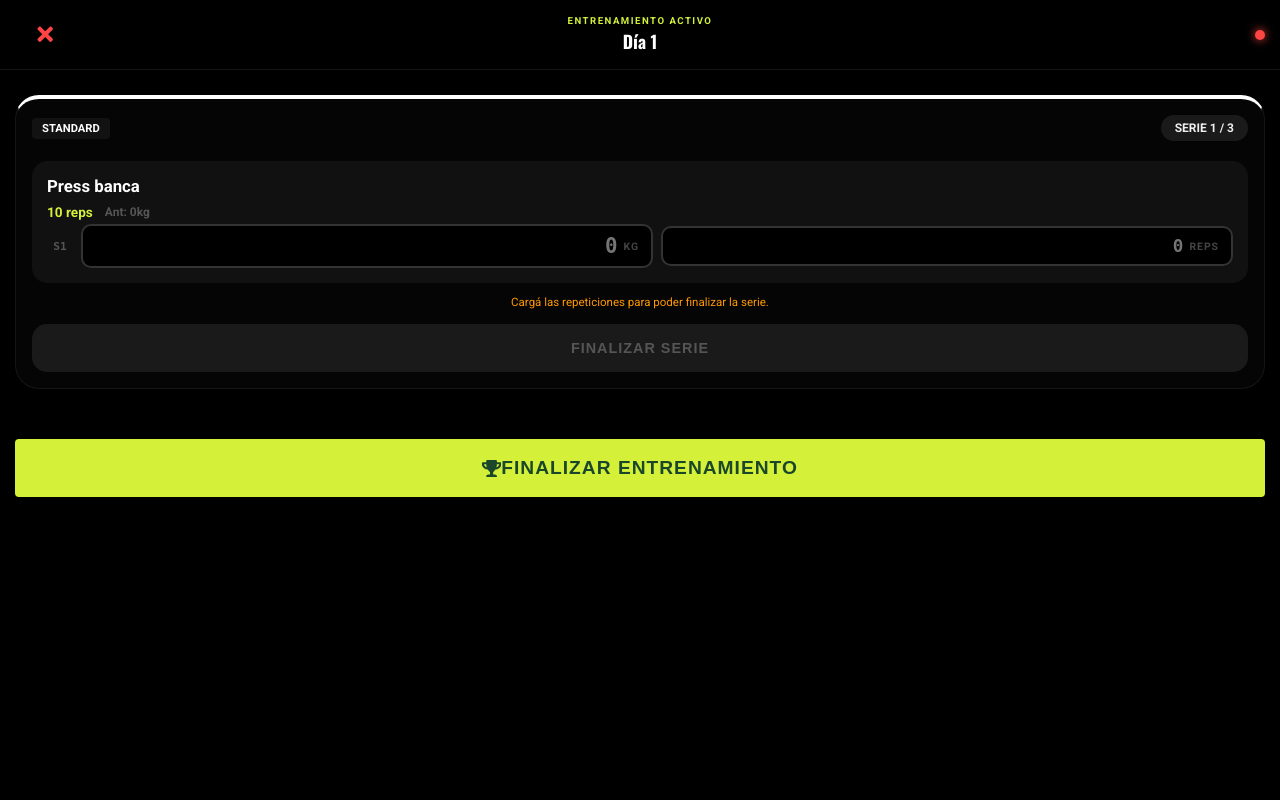
Scenario: WorkoutView — completar series/vueltas › el botón "SALTAR" corta el timer de descanso al toque
Type "10" into the number field named "Repeticiones serie" at (929, 246), box 675,236 -> 1183,256
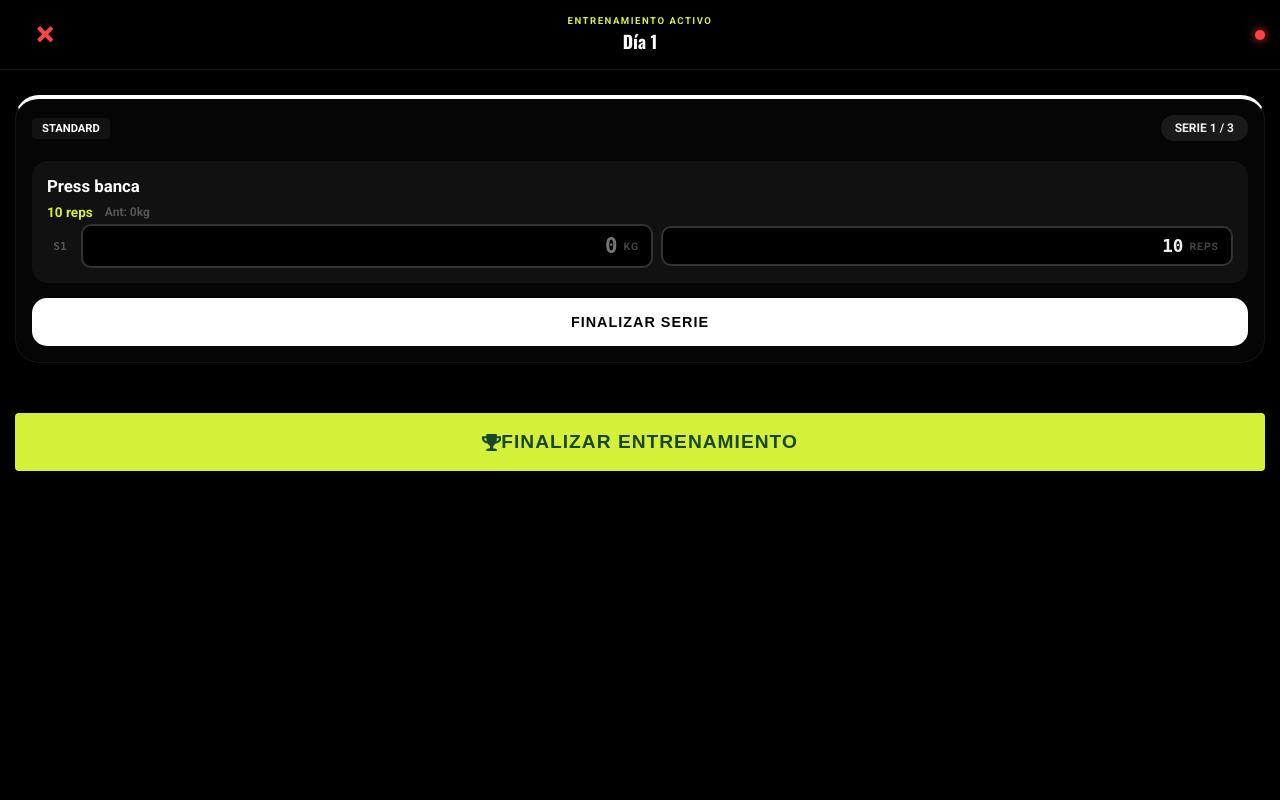
Click the button "FINALIZAR SERIE" at (640, 322), box 32,298 -> 1248,346
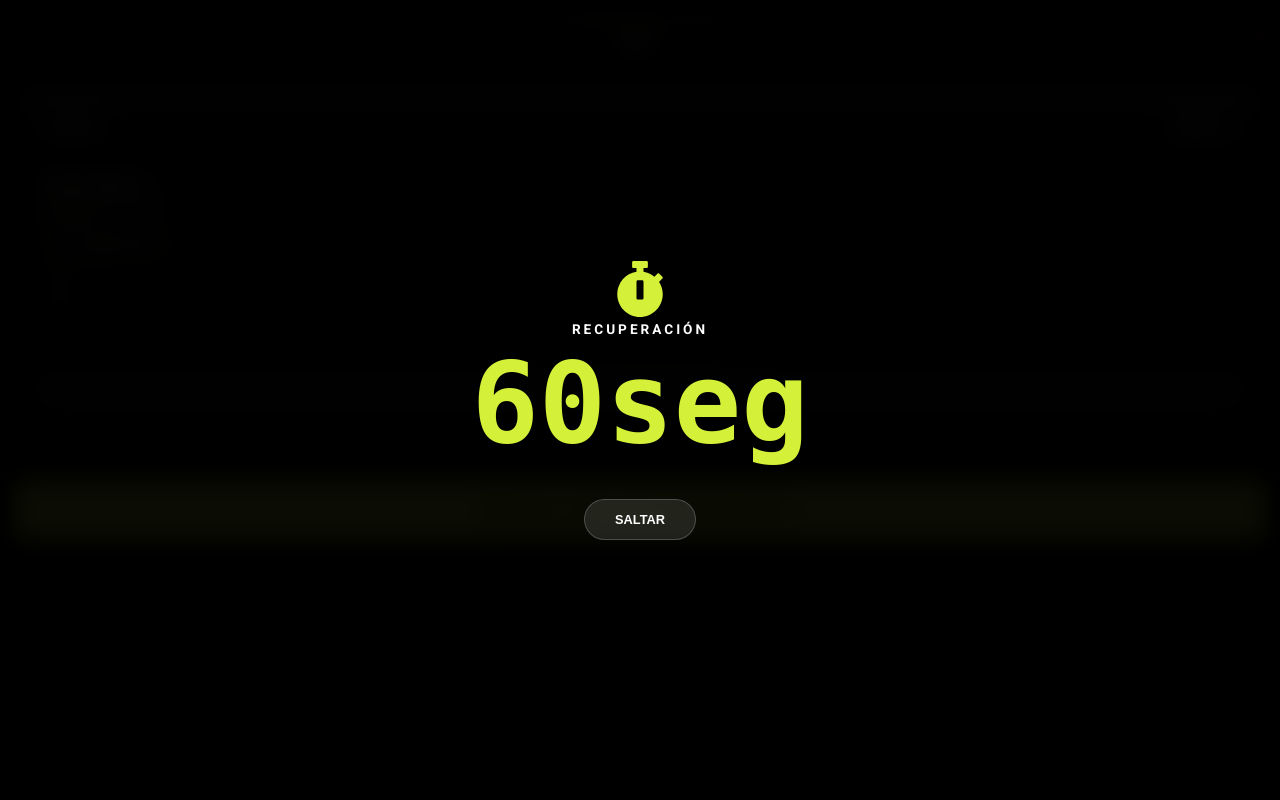
Click the button "SALTAR" at (640, 519), box 584,498 -> 696,540
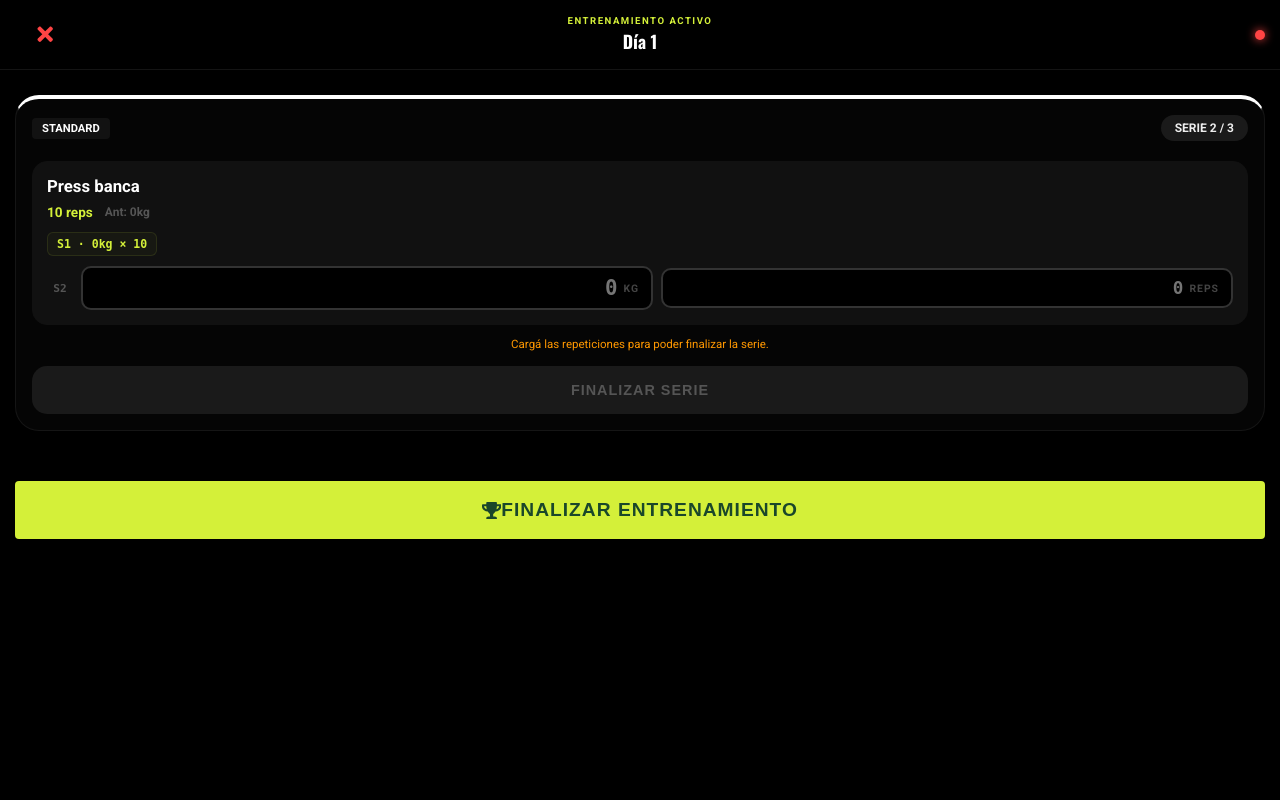
Result: the text "RECUPERACIÓN" is gone
